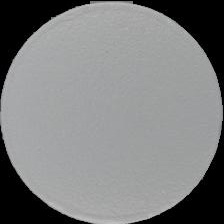16714-453: (0, 0, 224, 224)
